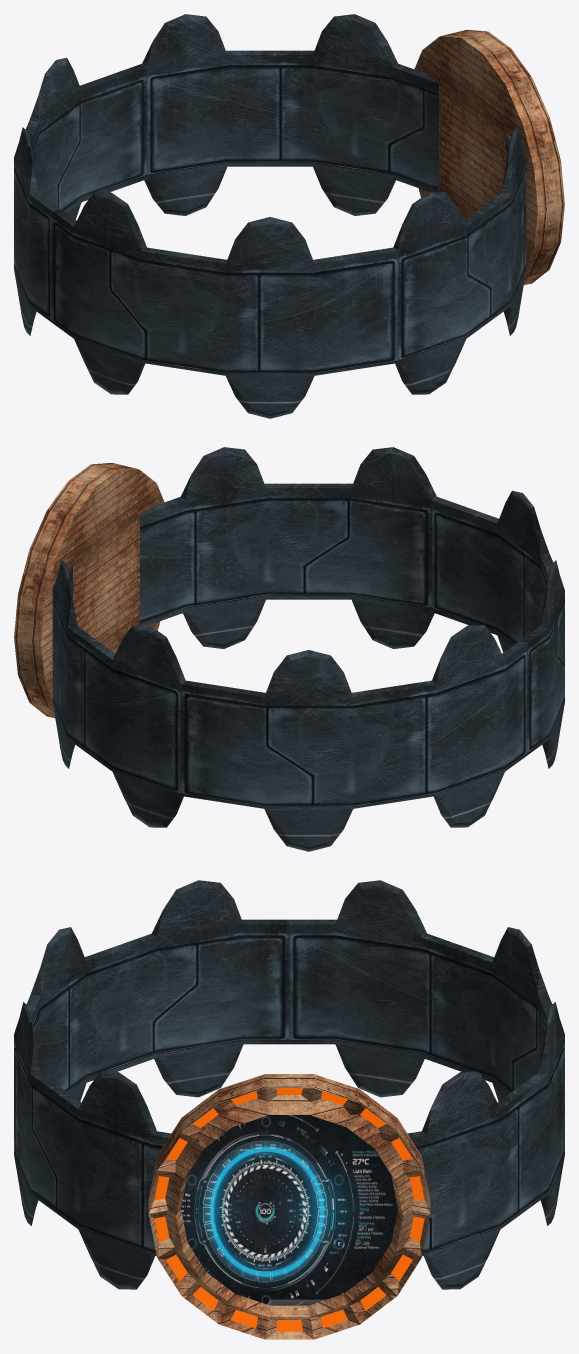
Rendered from futuristic_smart_watch.glb.
The picture shows the model from 3 angles, top to bottom: view 1: azimuth 30°, elevation 25°; view 2: azimuth 150°, elevation 25°; view 3: azimuth 270°, elevation 25°; orthographic projection. The views are drawn at different scales.
Visible parts, largest first — view 1: MaterialFBXASC032FBXASC0352142150746, MaterialFBXASC032FBXASC0352142150745; view 2: MaterialFBXASC032FBXASC0352142150746, MaterialFBXASC032FBXASC0352142150745; view 3: MaterialFBXASC032FBXASC0352142150746, MaterialFBXASC032FBXASC0352142148579, MaterialFBXASC032FBXASC0352142150745, LIGHTKRAFTFBXASC032GRAVITONFBXASC032.
Part boxes in pixels (<box>): MaterialFBXASC032FBXASC0352142150746: <box>14,14,526,418</box>; MaterialFBXASC032FBXASC0352142150745: <box>414,30,564,285</box>; MaterialFBXASC032FBXASC0352142150746: <box>52,447,564,851</box>; MaterialFBXASC032FBXASC0352142150745: <box>14,463,164,718</box>; MaterialFBXASC032FBXASC0352142150746: <box>14,880,564,1289</box>; MaterialFBXASC032FBXASC0352142148579: <box>181,1115,397,1305</box>; MaterialFBXASC032FBXASC0352142150745: <box>148,1074,430,1339</box>; LIGHTKRAFTFBXASC032GRAVITONFBXASC032: <box>154,1088,424,1331</box>.
Bounding box in the file's own units: 102 × 50.22 × 99.71.
4 materials, 3 textured.
